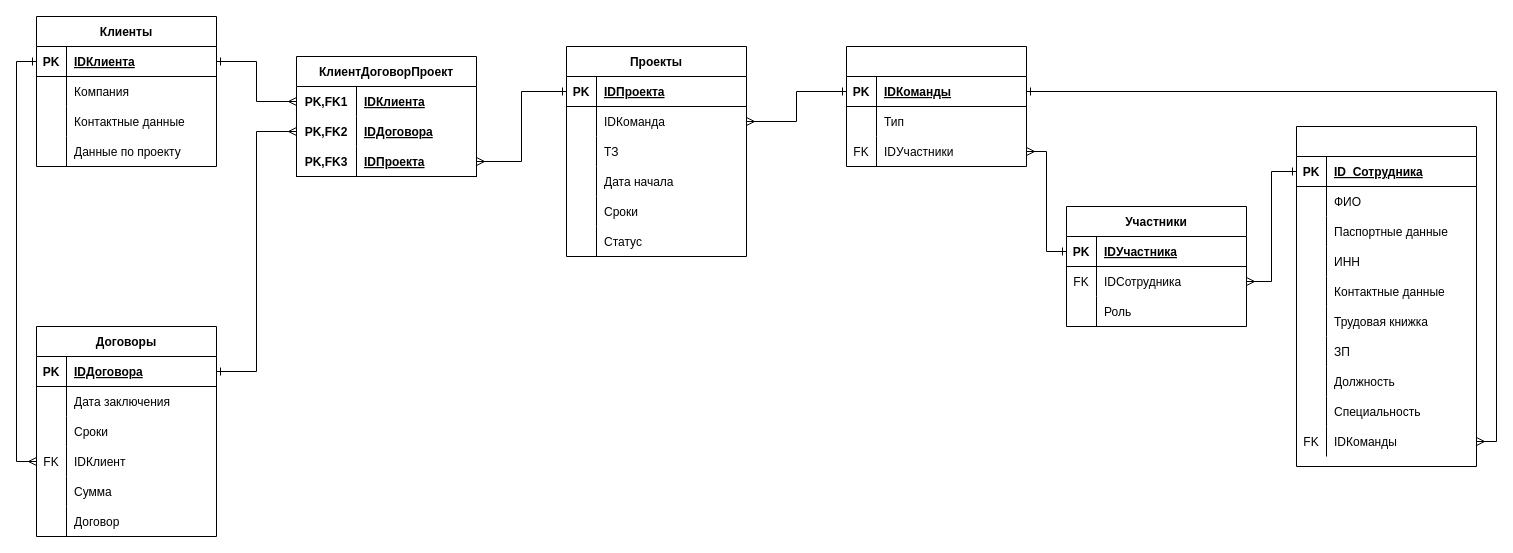
Image size: 1513x553. Some labels were removed from this diagram. The box of each missing label's shape, as (x1, y1, x2, y2) in pixels:
Команда: (846, 46, 1026, 166)
Сотрудники: (1296, 126, 1476, 466)
